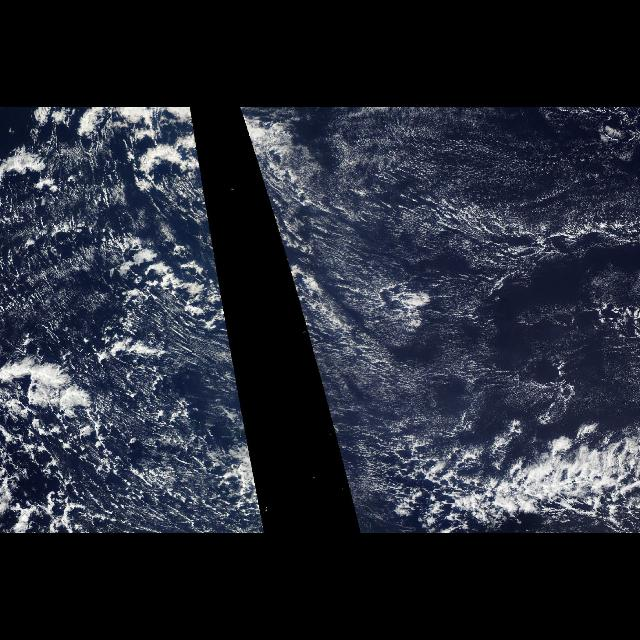Fish: (340, 394, 636, 526)
Gravel: (8, 111, 222, 526)
Sugar: (332, 112, 634, 384)
